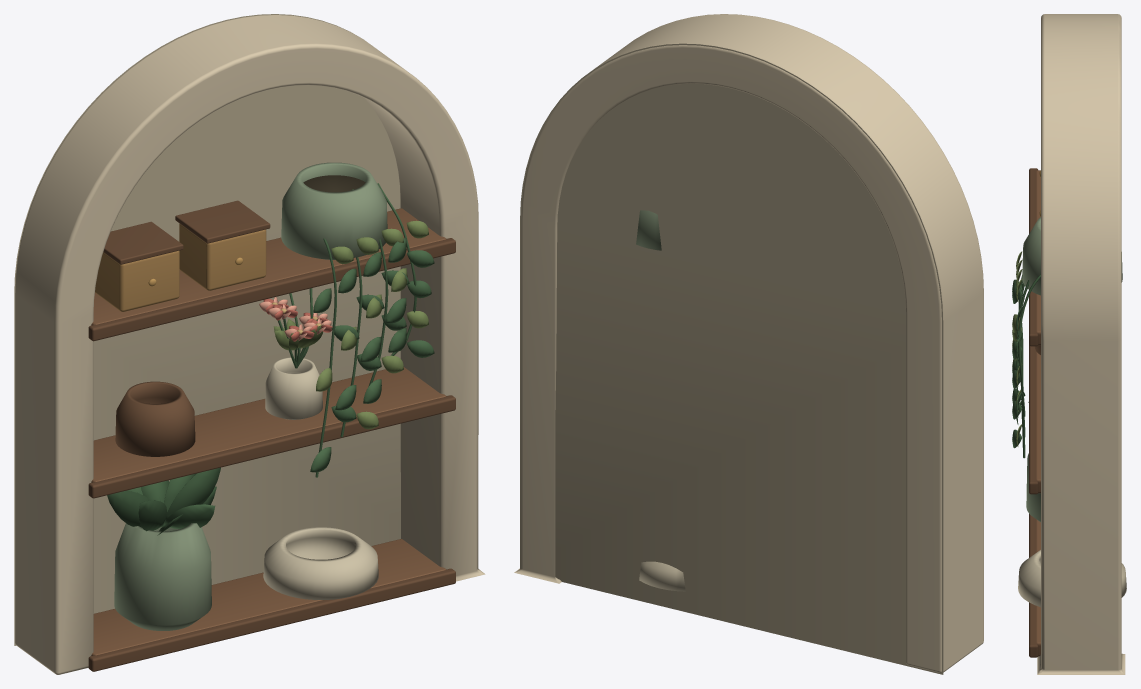
Rendered from niche.glb.
3 renders of one model, left to right at view 1: azimuth 30°, elevation 25°; view 2: azimuth 150°, elevation 25°; view 3: azimuth 270°, elevation 25°, orthographic. The views are drawn at different scales.
Visible parts, largest first — view 1: Atelier_Niche; view 2: Atelier_Niche; view 3: Atelier_Niche.
Part boxes in pixels (left/top/right/bottom): Atelier_Niche: left=14, top=14, right=485, bottom=674; Atelier_Niche: left=514, top=14, right=983, bottom=674; Atelier_Niche: left=1012, top=14, right=1126, bottom=674.
Bounding box in the file's own units: 2.22 × 2.85 × 0.5481.
